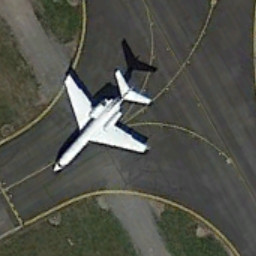Airplane: (39, 58, 162, 180)
